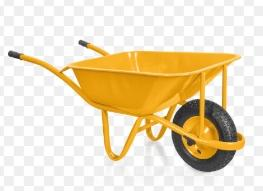BROUETTE: (0, 40, 252, 191)
